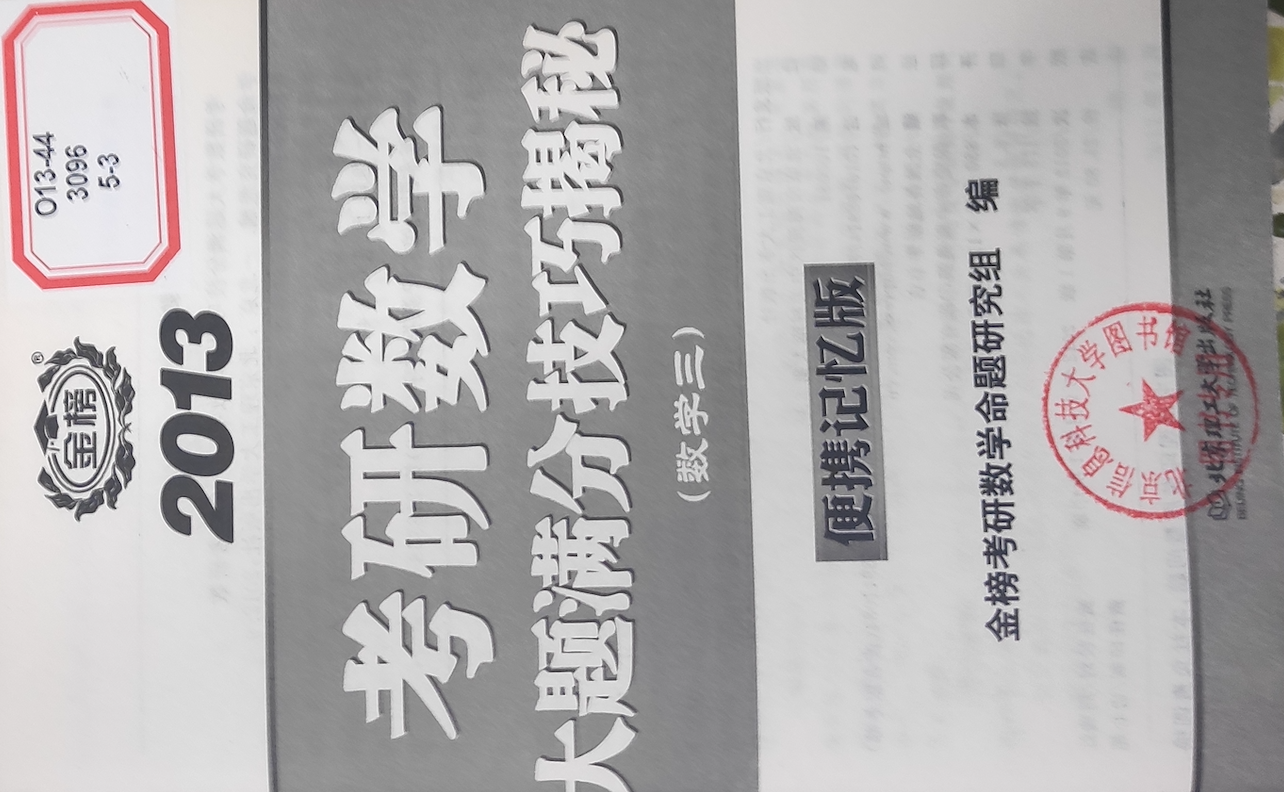Text_area: (323, 7, 721, 785), (804, 177, 1272, 649), (15, 9, 253, 590)
